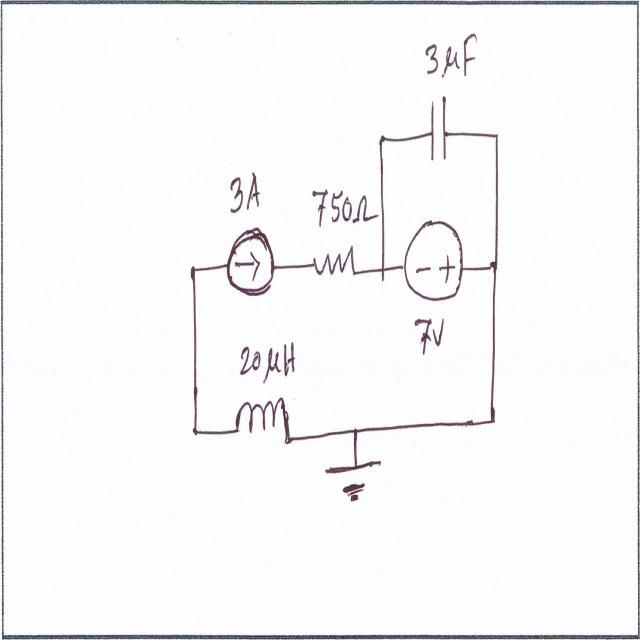capacitor: (428, 86, 449, 172)
current_source: (222, 219, 279, 301)
ground: (322, 451, 389, 513)
inductor: (230, 385, 295, 448)
resistor: (309, 242, 364, 287)
voltage_source: (398, 216, 469, 311)
